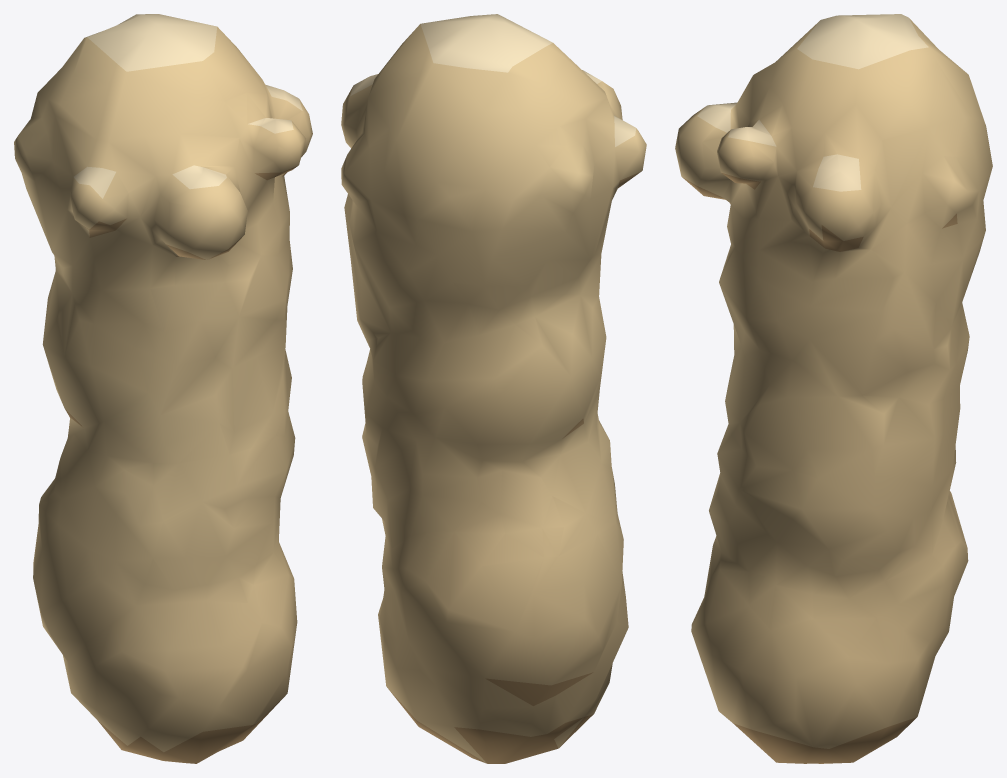
The model's file is shore_sand_geyser_lod1.glb.
3 renders of one model, left to right at view 1: azimuth 30°, elevation 25°; view 2: azimuth 150°, elevation 25°; view 3: azimuth 270°, elevation 25°, orthographic. The views are drawn at different scales.
Parts seen in each view (by area): view 1: shore_sand_geyser.001; view 2: shore_sand_geyser.001; view 3: shore_sand_geyser.001.
Part boxes in pixels (x1=…): shore_sand_geyser.001: x1=14, y1=14, x2=312, y2=763; shore_sand_geyser.001: x1=341, y1=14, x2=646, y2=763; shore_sand_geyser.001: x1=675, y1=14, x2=992, y2=763.
Bounding box in the file's own units: 1.82 × 4.84 × 1.88.
